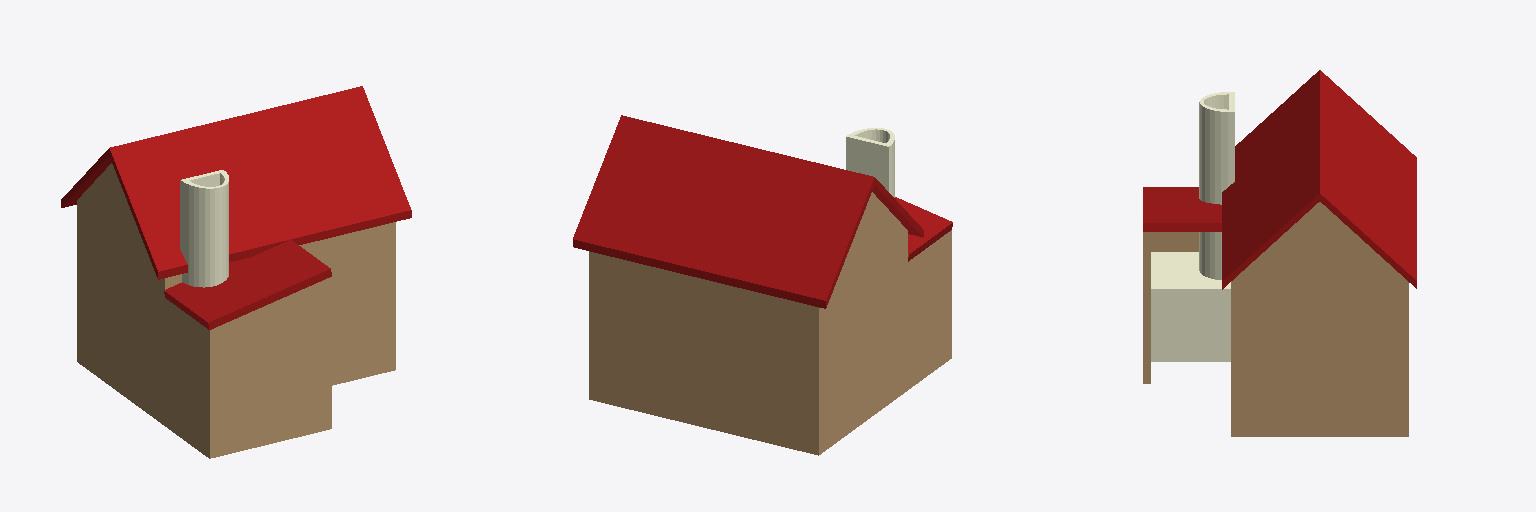
File: BBakery.obj
The picture shows the model from 3 angles: view 1: azimuth 30°, elevation 25°; view 2: azimuth 150°, elevation 25°; view 3: azimuth 270°, elevation 25°; orthographic projection.
Visible parts, largest first — view 1: BBakery; view 2: BBakery; view 3: BBakery.
Part boxes in pixels (left/top/right/bottom): BBakery: left=61, top=86, right=411, bottom=458; BBakery: left=573, top=115, right=952, bottom=455; BBakery: left=1143, top=70, right=1416, bottom=436.
Bounding box in the file's own units: 3.3 × 3.1 × 3.1.